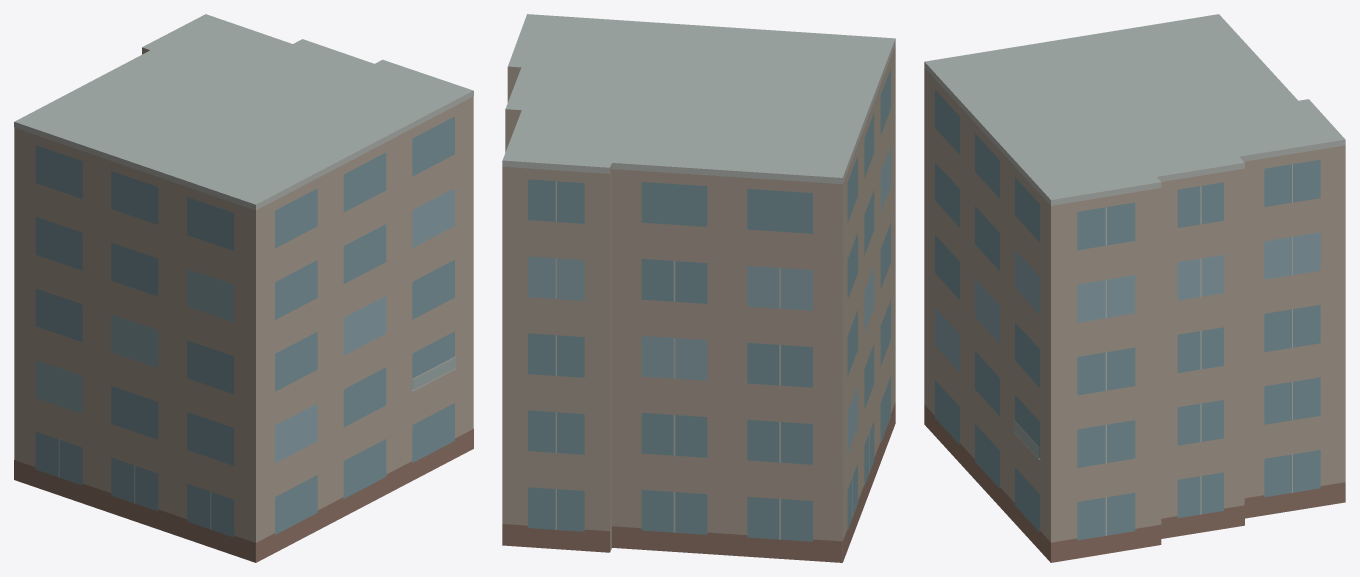
Rendered from survey-upis-32755494.glb.
The picture shows the model from 3 angles, left to right: view 1: azimuth 30°, elevation 25°; view 2: azimuth 150°, elevation 25°; view 3: azimuth 270°, elevation 25°; orthographic projection. The views are drawn at different scales.
Parts seen in each view (by area): view 1: survey-upis-32755494.tmp; view 2: survey-upis-32755494.tmp; view 3: survey-upis-32755494.tmp.
Boxes of the visible parts, x1=… form: survey-upis-32755494.tmp: x1=14, y1=14, x2=473, y2=562; survey-upis-32755494.tmp: x1=502, y1=14, x2=895, y2=562; survey-upis-32755494.tmp: x1=924, y1=14, x2=1345, y2=562.
Size of the model in its own units: 16.79 by 15.25 by 16.06.
